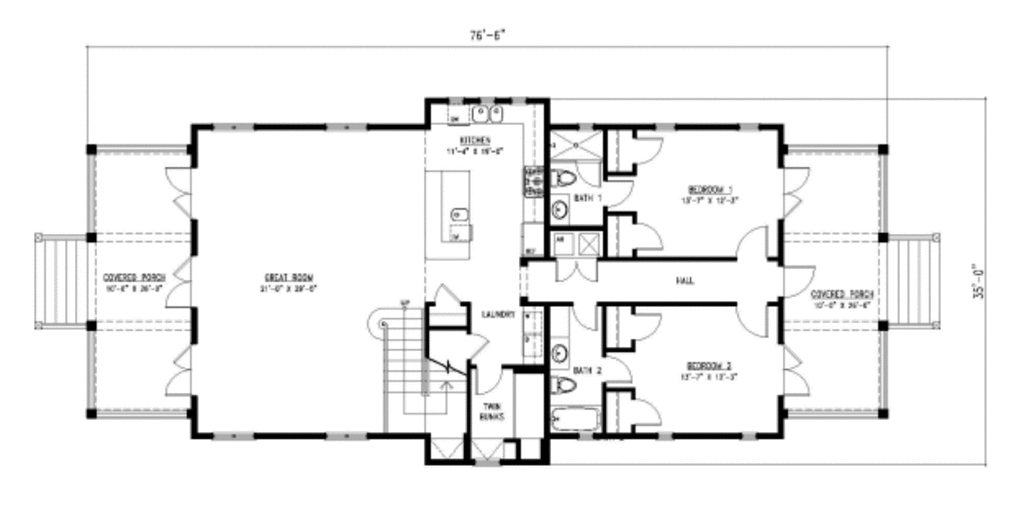door: (776, 343, 812, 395), (163, 162, 195, 219), (782, 162, 810, 222), (165, 259, 197, 309), (555, 254, 601, 286), (733, 303, 771, 340), (601, 350, 636, 388), (166, 344, 191, 396), (782, 262, 818, 298), (735, 223, 771, 258), (632, 221, 667, 254), (631, 396, 665, 428), (603, 179, 638, 209), (634, 136, 664, 168), (474, 365, 504, 396), (633, 312, 665, 339), (574, 302, 601, 333), (577, 160, 605, 187), (467, 331, 491, 362), (431, 284, 458, 309)
kitchen_bar: (423, 164, 475, 266)
large_sink: (548, 369, 582, 397), (548, 167, 579, 193)
small_sink: (551, 337, 572, 371), (548, 192, 570, 224)
stairs: (368, 307, 469, 438), (31, 230, 95, 327), (878, 236, 941, 330)
tub: (549, 405, 603, 434)
twin_sink: (467, 103, 505, 127)
windows: (210, 120, 257, 136), (323, 120, 372, 135), (208, 430, 257, 444)
